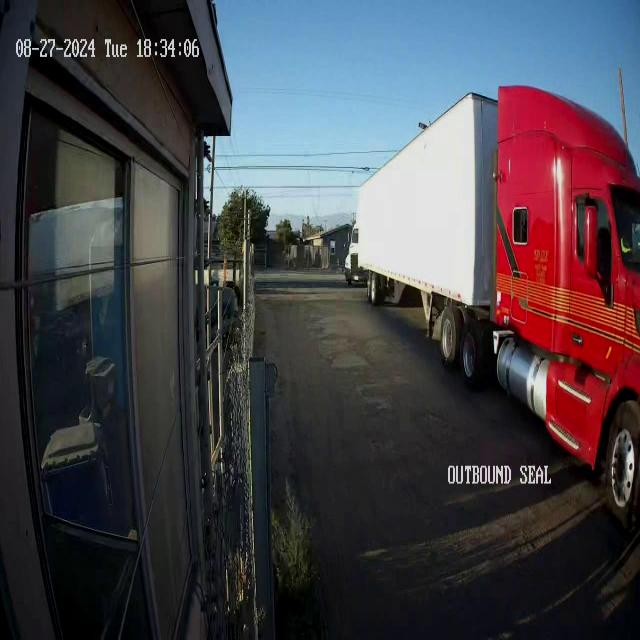CONTAINER: (354, 90, 497, 310)
